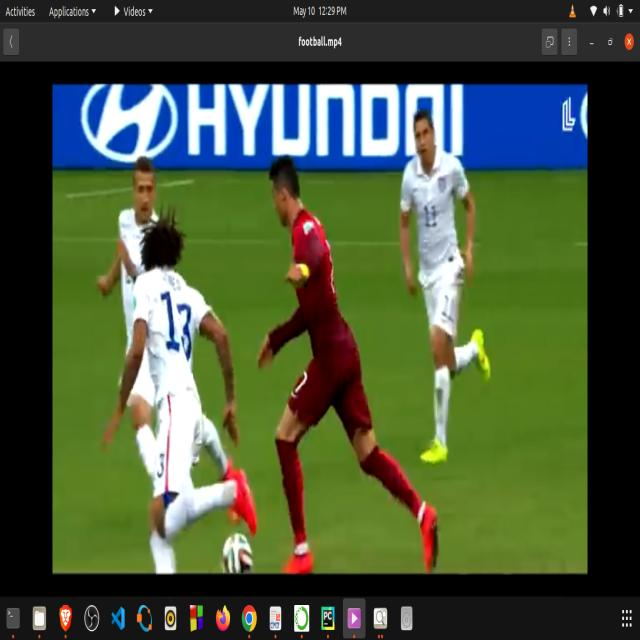Ball: (217, 524, 255, 576)
football-players: (256, 150, 442, 574), (128, 216, 260, 540), (394, 100, 496, 472), (95, 156, 172, 461)
